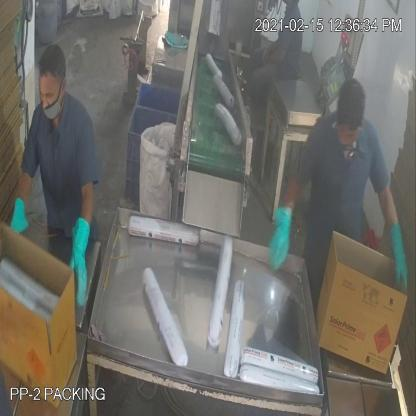glove: (60, 205, 93, 316), (264, 193, 297, 278), (380, 208, 412, 295)
